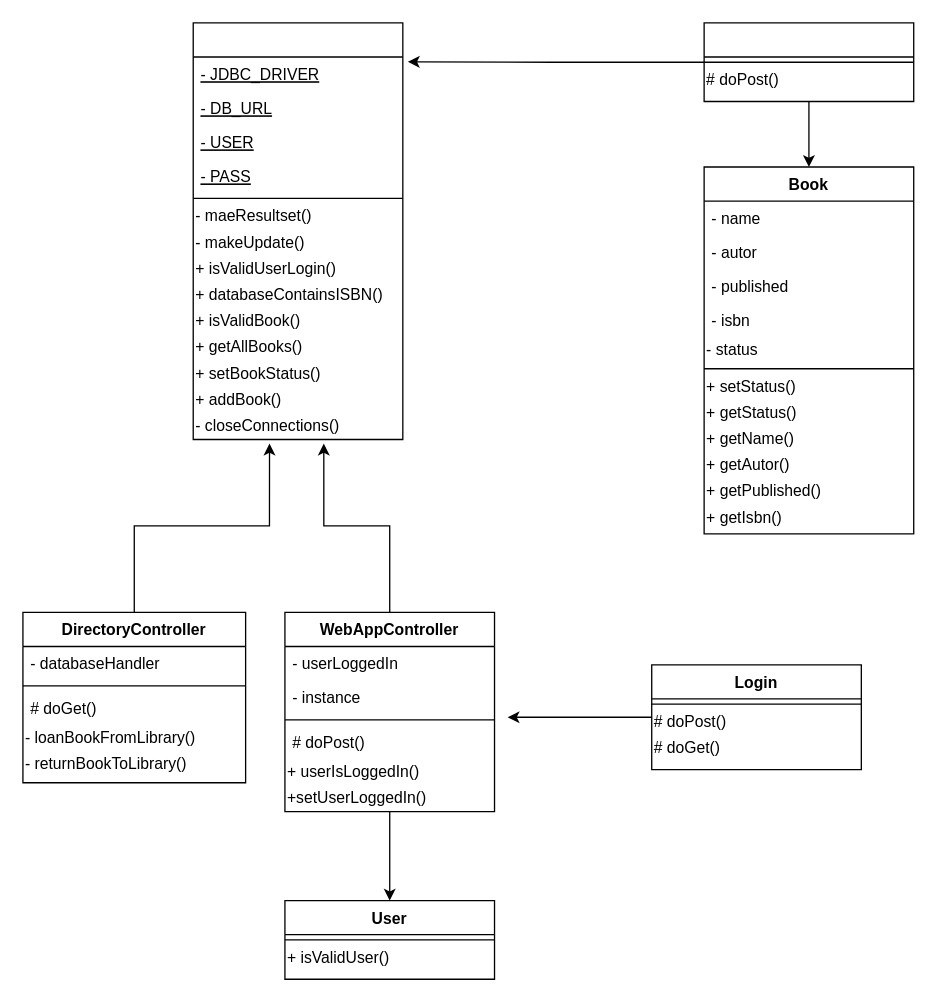
This 937x1002 diagram has some shape labels left out. The shapes that lost their labels are listed below. From the top down, each one's box as (x1, y1, x2, y2) in pixels, then its label:
(703, 22, 914, 102): BookCreation
(192, 22, 403, 440): DatabaseHandler
